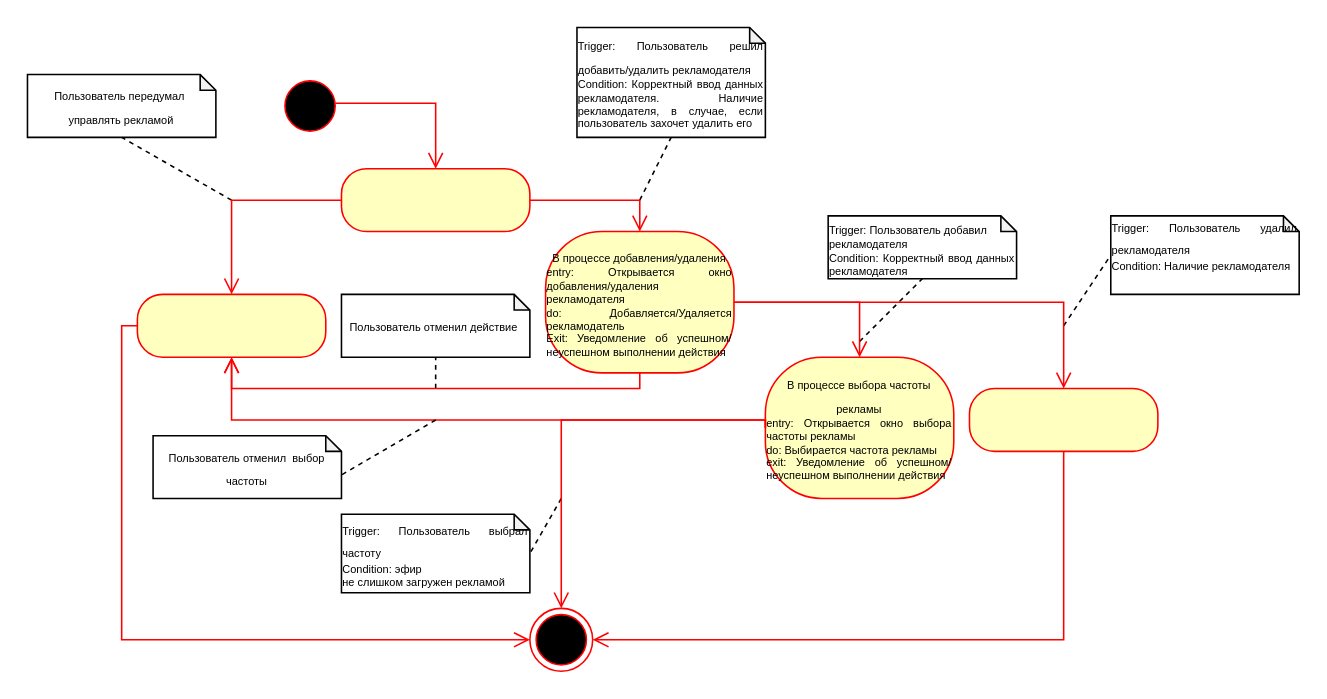
The diagram is 1327 pixels wide and 699 high, and some of its shapes have lost their labels. The shapes that lost their labels are listed below. From the top down, each one's box as (x1, y1, x2, y2) in pixels, then its label:
(340, 167, 530, 232): Отсутствие
(136, 293, 326, 357): Отменено
(968, 387, 1158, 451): Рекламодатель удалён exit: Уведомление об успешном удалении рекламодателя
